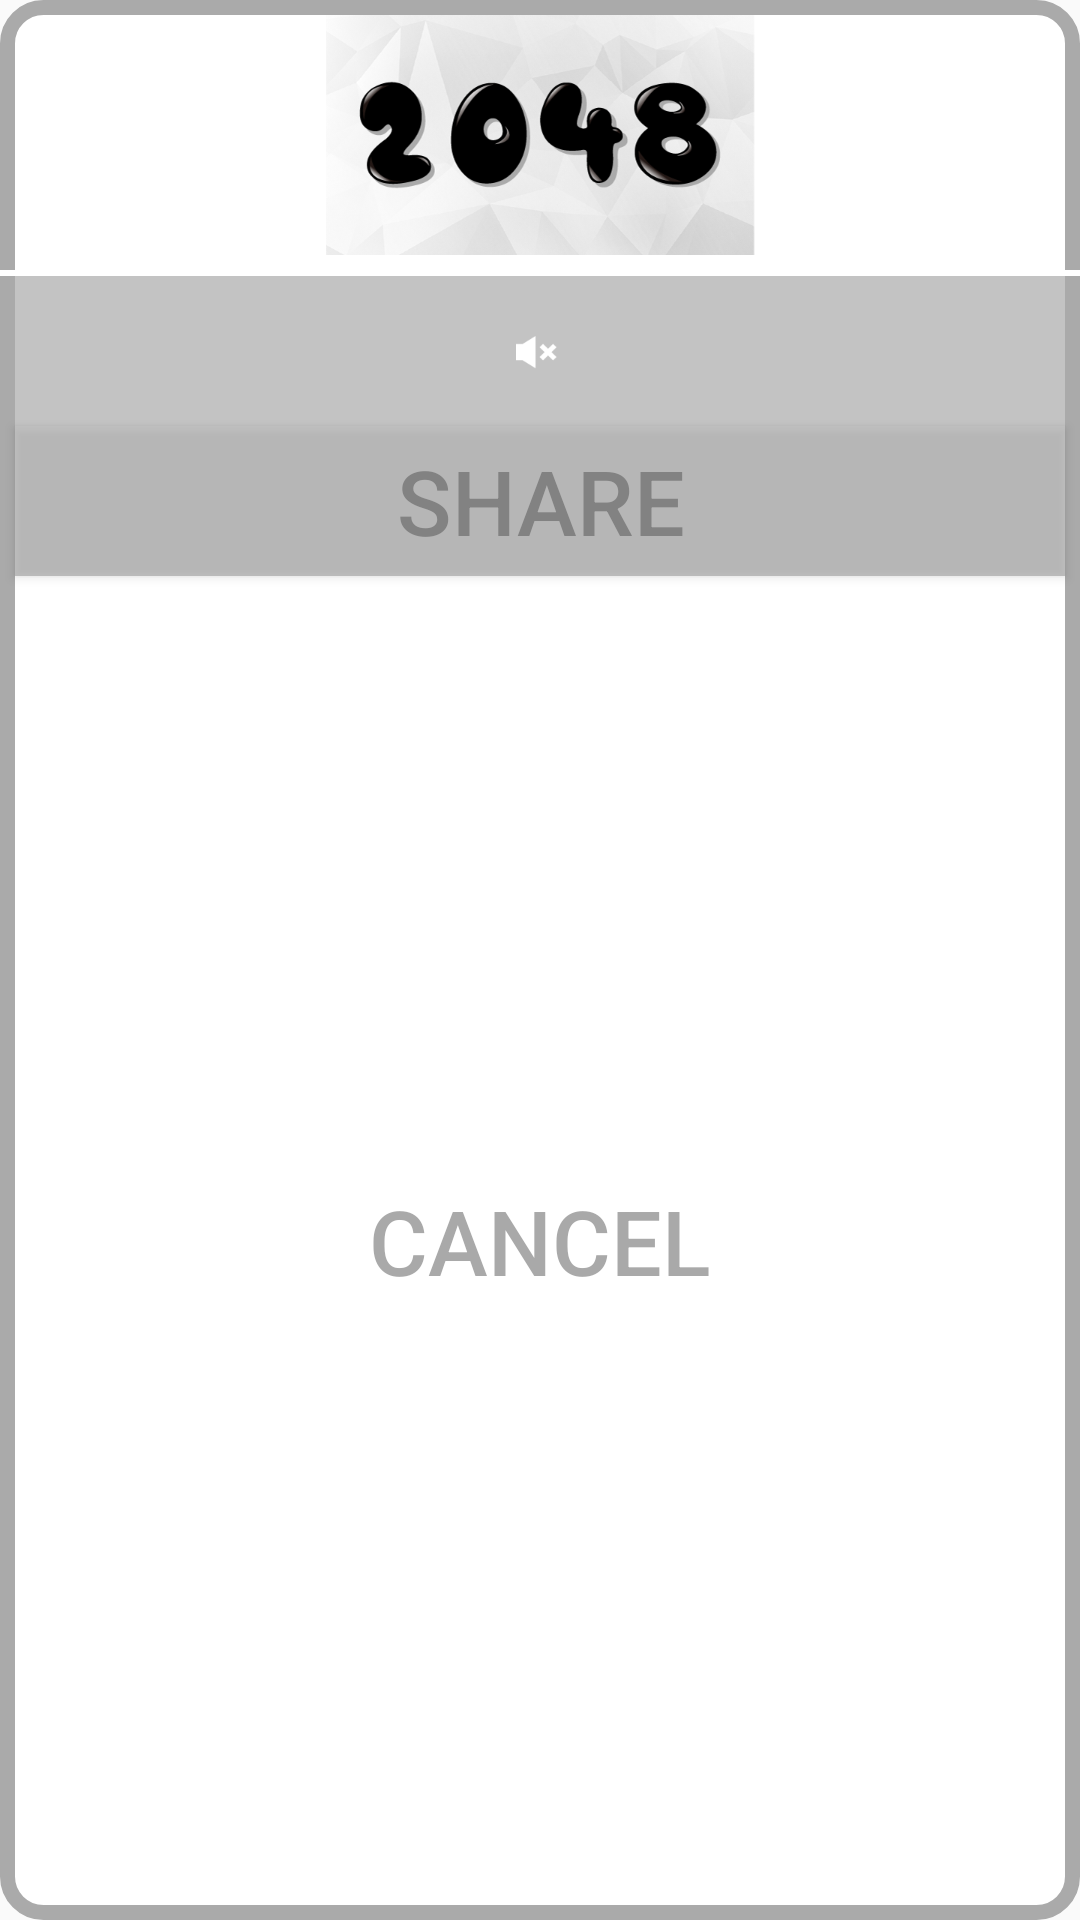

Named icons in this screenshot (1080x1920) and their bounding boxes, (x1, y1, x2, y2):
game sound off focus: (516, 337, 556, 368)
